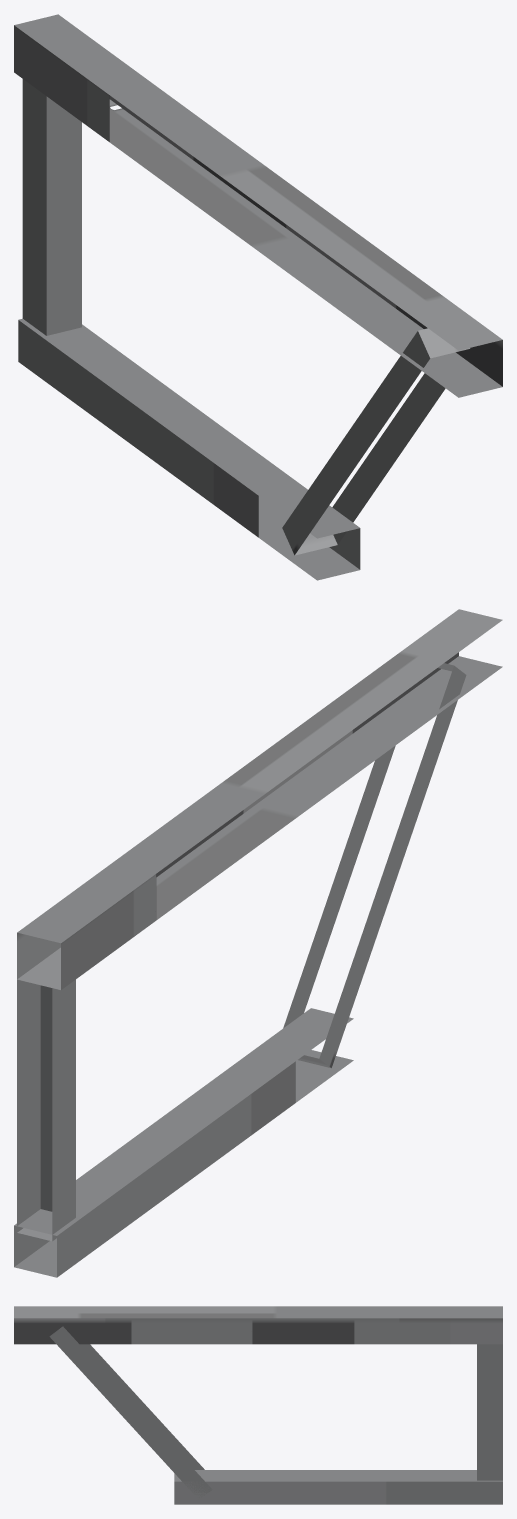
3 views of the same model, one above another, from view 1: azimuth 30°, elevation 25°; view 2: azimuth 150°, elevation 25°; view 3: azimuth 270°, elevation 25° (orthographic). The views are drawn at different scales.
Size of the model in its own units: 0.152 by 1.03 by 2.47.
